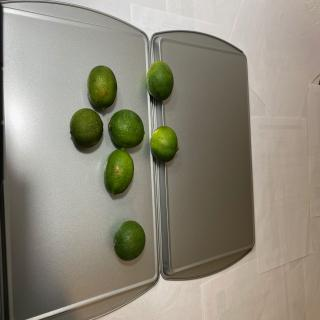Lemon: (103, 147, 134, 195), (86, 65, 118, 110), (108, 109, 144, 148), (70, 108, 104, 148), (113, 220, 146, 261), (146, 60, 174, 101), (150, 126, 179, 162)
